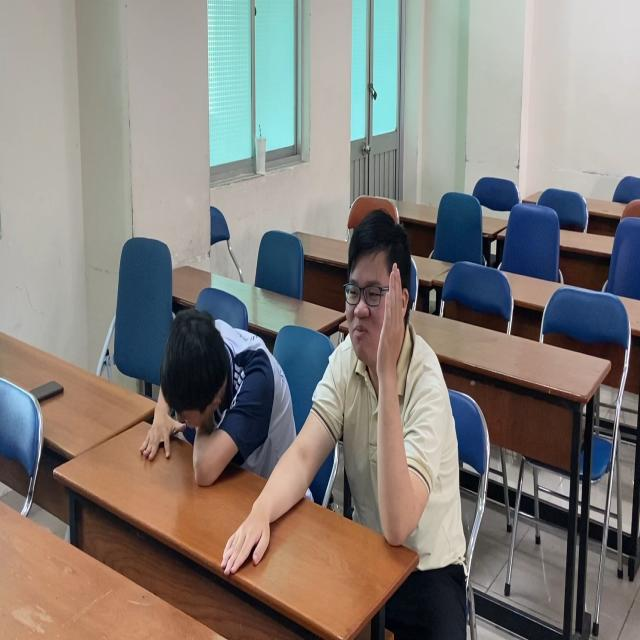raise_hand: (322, 196, 439, 549)
